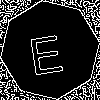E: (25, 25, 66, 76)
